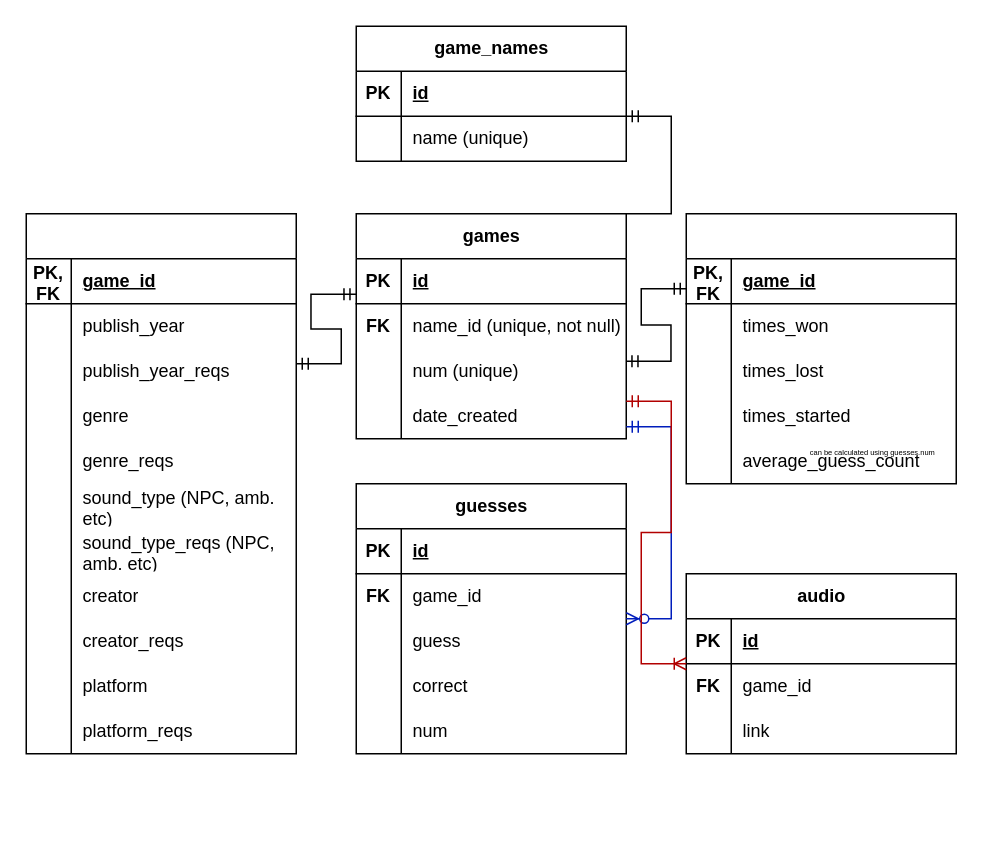
Some shapes in this 983 by 848 pixel diagram are drawn without their labels. The box of each missing label's shape, as (x1, y1, x2, y2) in pixels:
hints: (25, 212, 296, 754)
stats: (685, 212, 956, 484)
